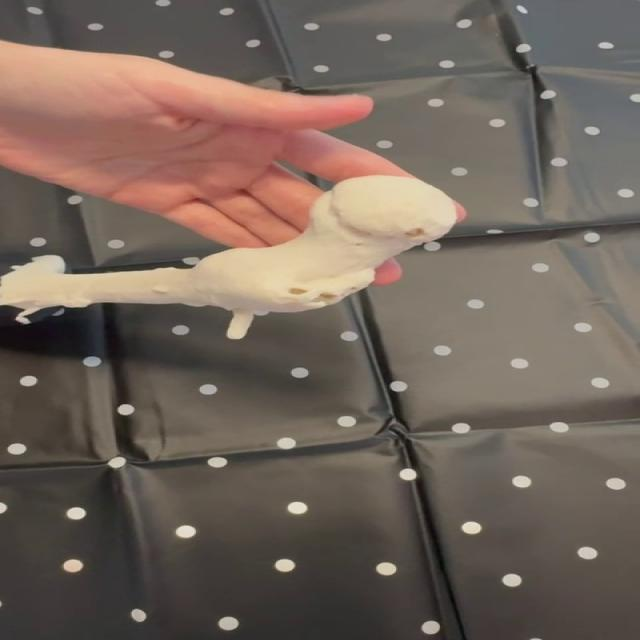bones: (0, 176, 457, 339)
